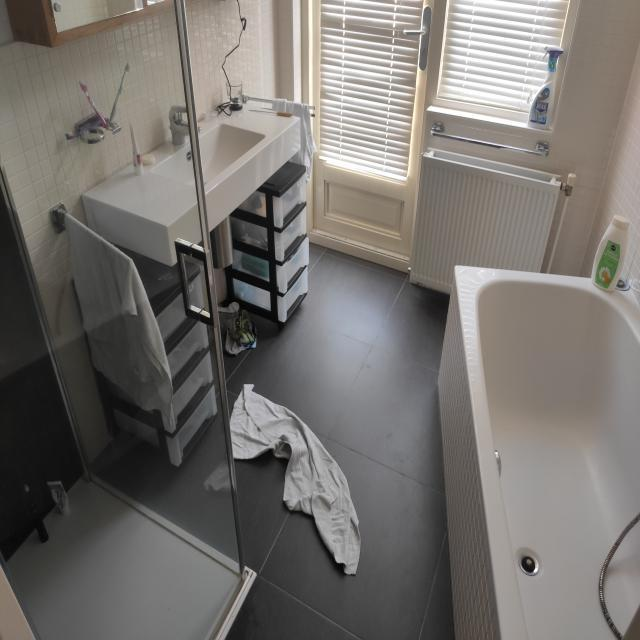bath: (438, 261, 640, 640)
douche: (0, 0, 263, 640)
wastafel: (80, 101, 304, 271)
